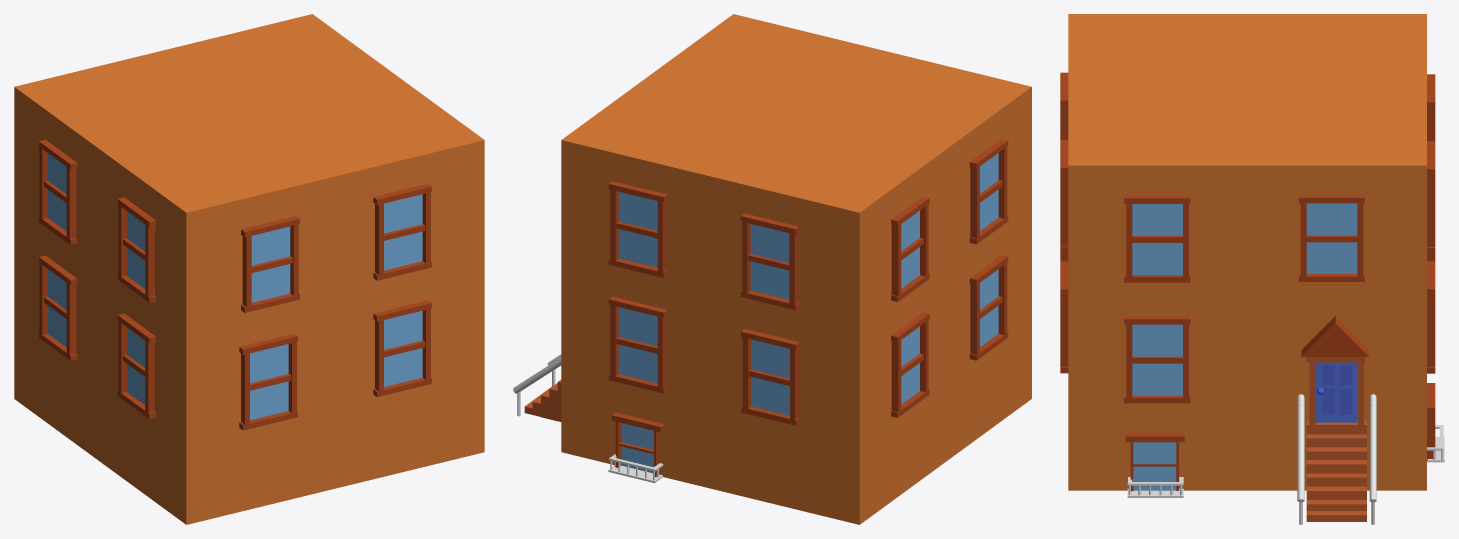
The model's file is apartment.glb.
3 renders of one model, left to right at view 1: azimuth 30°, elevation 25°; view 2: azimuth 150°, elevation 25°; view 3: azimuth 270°, elevation 25°, orthographic. The views are drawn at different scales.
Parts seen in each view (by area): view 1: Cube, Cube.034, Cube.037, Cube.031, Cube.038, Cube.033, Cube.032, Cube.036, Cube.035, Cube.042, Cube.044, Cube.046 (+5 smaller); view 2: Cube, Cube.022, Cube.024, Cube.027, Cube.028, Cube.025, Cube.021, Cube.023, Cube.026, Cube.046, Cube.041, Cube.042 (+9 smaller); view 3: Cube, Cube.014, Cube.006, Cube.012, Cube.002, Cube.015, Cube.020, Cube.017, Cube.004, Cylinder, Cube.001, Cube.027 (+10 smaller).
Boxes of the visible parts, x1=… form: Cube: x1=14, y1=14, x2=484, y2=524; Cube.034: x1=241, y1=216, x2=299, y2=312; Cube.037: x1=373, y1=300, x2=431, y2=397; Cube.031: x1=373, y1=184, x2=431, y2=280; Cube.038: x1=239, y1=333, x2=297, y2=430; Cube.033: x1=251, y1=226, x2=290, y2=302; Cube.032: x1=384, y1=194, x2=422, y2=270; Cube.036: x1=250, y1=344, x2=288, y2=420; Cube.035: x1=384, y1=310, x2=422, y2=386; Cube.042: x1=39, y1=139, x2=77, y2=245; Cube.044: x1=39, y1=255, x2=77, y2=360; Cube.046: x1=117, y1=313, x2=155, y2=418; Cube: x1=561, y1=14, x2=1031, y2=524; Cube.022: x1=608, y1=181, x2=667, y2=277; Cube.024: x1=740, y1=213, x2=799, y2=310; Cube.027: x1=608, y1=296, x2=667, y2=393; Cube.028: x1=741, y1=329, x2=799, y2=425; Cube.025: x1=618, y1=307, x2=657, y2=383; Cube.021: x1=618, y1=191, x2=657, y2=267; Cube.023: x1=750, y1=224, x2=789, y2=299; Cube.026: x1=751, y1=339, x2=789, y2=415; Cube.046: x1=969, y1=255, x2=1008, y2=360; Cube.041: x1=969, y1=139, x2=1008, y2=244; Cube.042: x1=891, y1=196, x2=929, y2=302; Cube: x1=1068, y1=14, x2=1426, y2=490; Cube.014: x1=1306, y1=421, x2=1366, y2=521; Cube.006: x1=1306, y1=203, x2=1357, y2=273; Cube.012: x1=1132, y1=324, x2=1182, y2=395; Cube.002: x1=1132, y1=204, x2=1182, y2=274; Cube.015: x1=1298, y1=195, x2=1364, y2=281; Cube.020: x1=1124, y1=195, x2=1190, y2=282; Cube.017: x1=1124, y1=316, x2=1190, y2=403; Cube.004: x1=1133, y1=442, x2=1176, y2=490; Cylinder: x1=1301, y1=316, x2=1369, y2=356; Cube.001: x1=1315, y1=362, x2=1357, y2=422; Cube.027: x1=1427, y1=261, x2=1435, y2=373.
Bounding box in the file's own units: 2.54 × 2 × 2.14.
